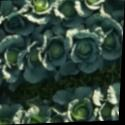cabbage: (45, 39, 66, 61), (74, 39, 95, 57), (0, 47, 17, 66), (100, 30, 115, 50), (72, 105, 87, 121), (33, 0, 50, 11), (81, 0, 100, 7), (24, 115, 38, 124), (52, 114, 65, 123), (0, 117, 11, 125)
